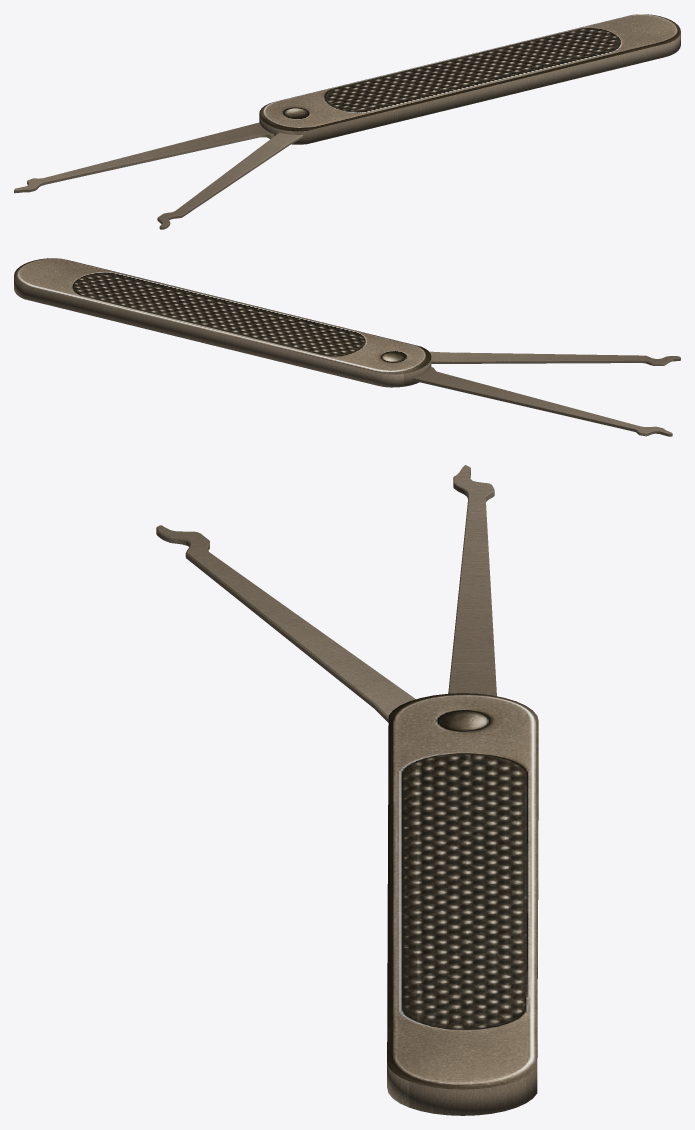
The model's file is lockpickNew.fbx.
3 renders of one model, top to bottom at view 1: azimuth 30°, elevation 25°; view 2: azimuth 150°, elevation 25°; view 3: azimuth 270°, elevation 25°, orthographic. The views are drawn at different scales.
Parts seen in each view (by area): view 1: Cylinder, Cube, Cube.001; view 2: Cylinder, Cube, Cube.001; view 3: Cylinder, Cube.001, Cube.
Boxes of the visible parts, x1,y1,x2,y2 form: Cylinder: [259, 14, 680, 144]; Cube: [14, 122, 274, 193]; Cube.001: [157, 132, 303, 229]; Cylinder: [14, 258, 431, 387]; Cube: [413, 367, 672, 436]; Cube.001: [429, 351, 680, 365]; Cylinder: [387, 693, 538, 1115]; Cube.001: [156, 525, 415, 722]; Cube: [448, 465, 496, 696].
Bounding box in the file's own units: 427 × 10.08 × 108.
